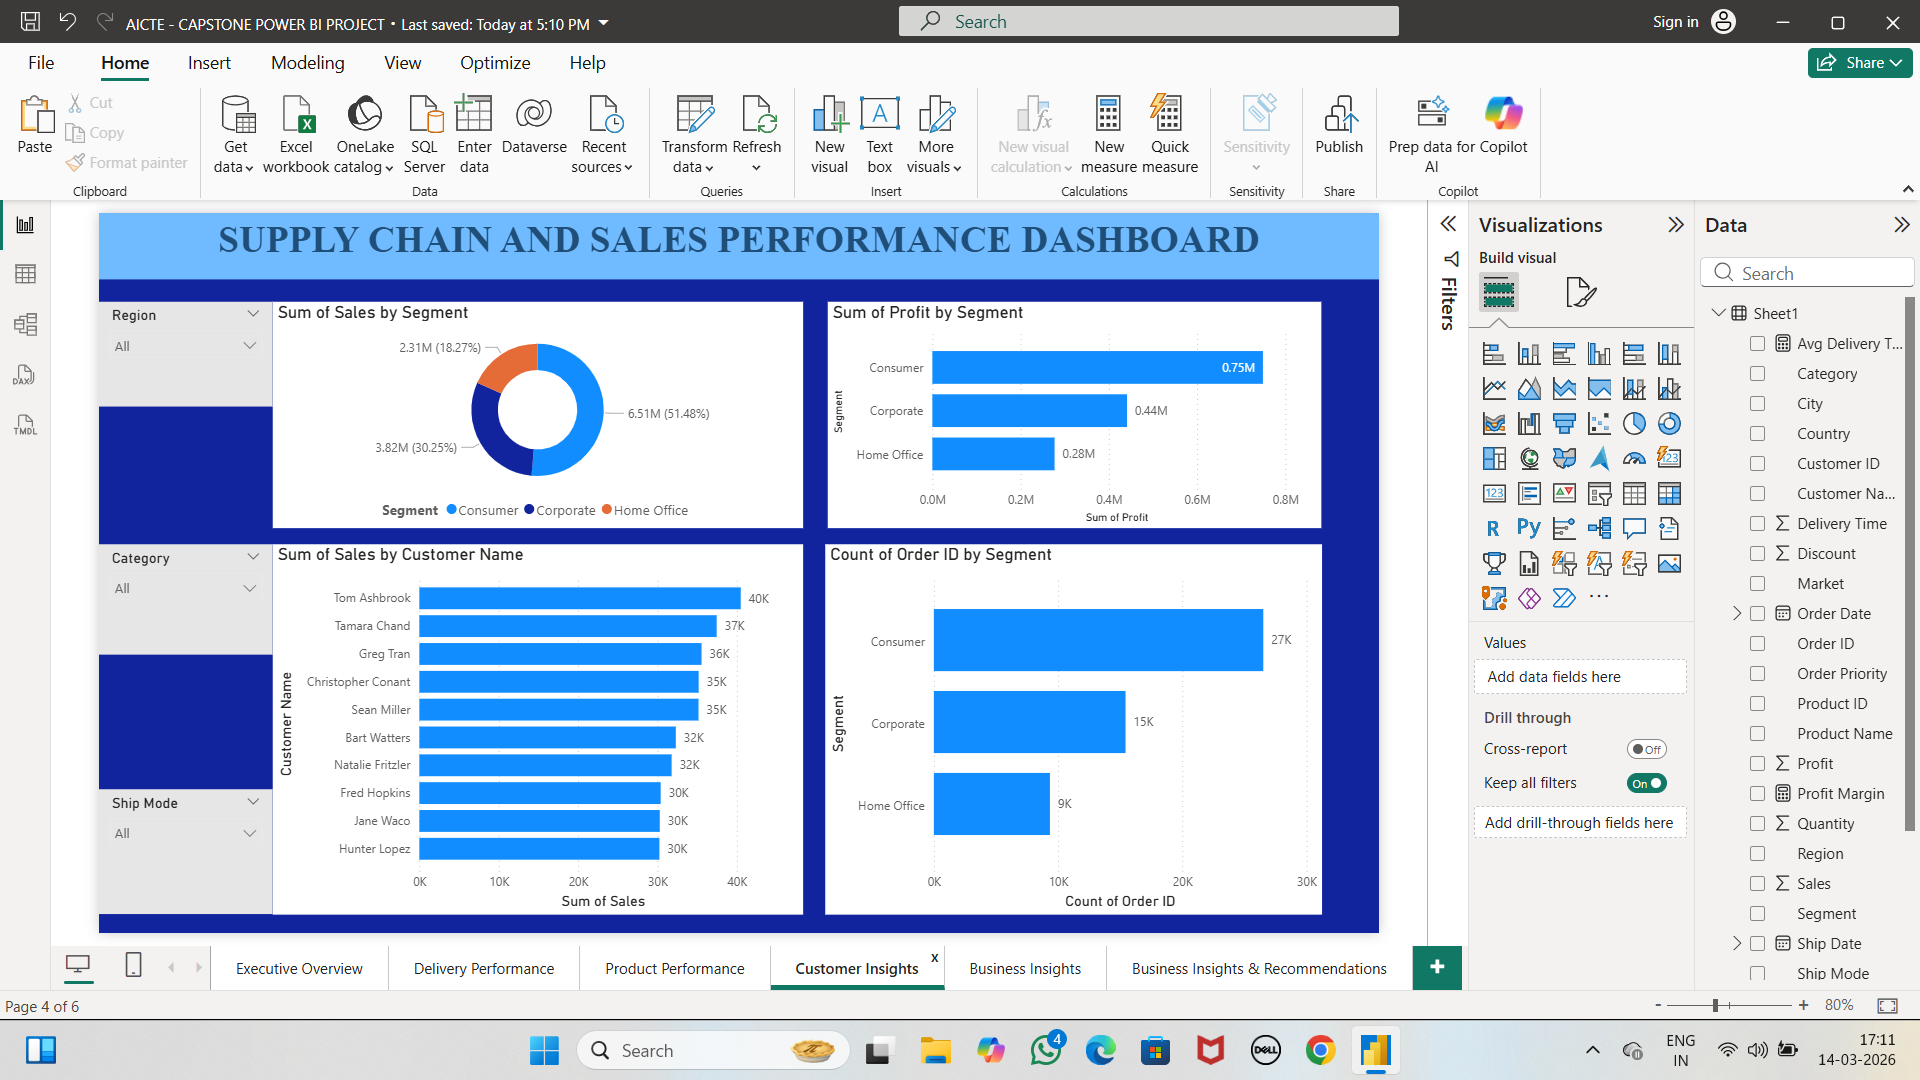

Layout of this report page (visuals, bound fields, positions):
{"tool":"powerbi","page":{"name":"Customer Insights","canvas":[1280,720],"ordinal":3},"visuals":[{"type":"donutChart","fields":{"Category":["Sheet1.Segment"],"Y":["Sum(Sheet1.Sales)"]},"box":[173.3,88.3,530,226.7],"z":0},{"type":"clusteredBarChart","fields":{"Category":["Sheet1.Segment"],"Y":["Sum(Sheet1.Profit)"]},"box":[728.3,88.3,493.3,226.7],"z":1000},{"type":"barChart","fields":{"Category":["Sheet1.Customer Name"],"Y":["Sum(Sheet1.Sales)"]},"box":[173.3,331.7,530,370],"z":2000},{"type":"barChart","fields":{"Category":["Sheet1.Segment"],"Y":["CountNonNull(Sheet1.Order ID)"]},"box":[726.7,331.7,496.7,370],"z":3000},{"type":"slicer","fields":{"Values":["Sheet1.Region"]},"box":[0,88.3,173.3,105],"z":4000},{"type":"slicer","fields":{"Values":["Sheet1.Category"]},"box":[0,331.7,173.3,110],"z":5000},{"type":"slicer","fields":{"Values":["Sheet1.Ship Mode"]},"box":[0,576.7,173.3,125],"z":6000},{"type":"textbox","box":[0,0,1280,66.7],"z":7000}]}

Visuals, with their boxes on the page's 1280x720 design canvas (x1, y1, x2, y2). These are canvas units, not pixel positions in the 1920x1080 screenshot, which may show the page scaled, cropped or inside an application window:
donutChart - Sheet1.Segment x Sum(Sheet1.Sales): region(173, 88, 703, 315)
clusteredBarChart - Sheet1.Segment x Sum(Sheet1.Profit): region(728, 88, 1222, 315)
barChart - Sheet1.Customer Name x Sum(Sheet1.Sales): region(173, 332, 703, 702)
barChart - Sheet1.Segment x CountNonNull(Sheet1.Order ID): region(727, 332, 1223, 702)
slicer - Sheet1.Region: region(0, 88, 173, 193)
slicer - Sheet1.Category: region(0, 332, 173, 442)
slicer - Sheet1.Ship Mode: region(0, 577, 173, 702)
textbox: region(0, 0, 1280, 67)
